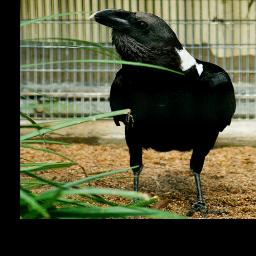Crow: (86, 8, 236, 218)
